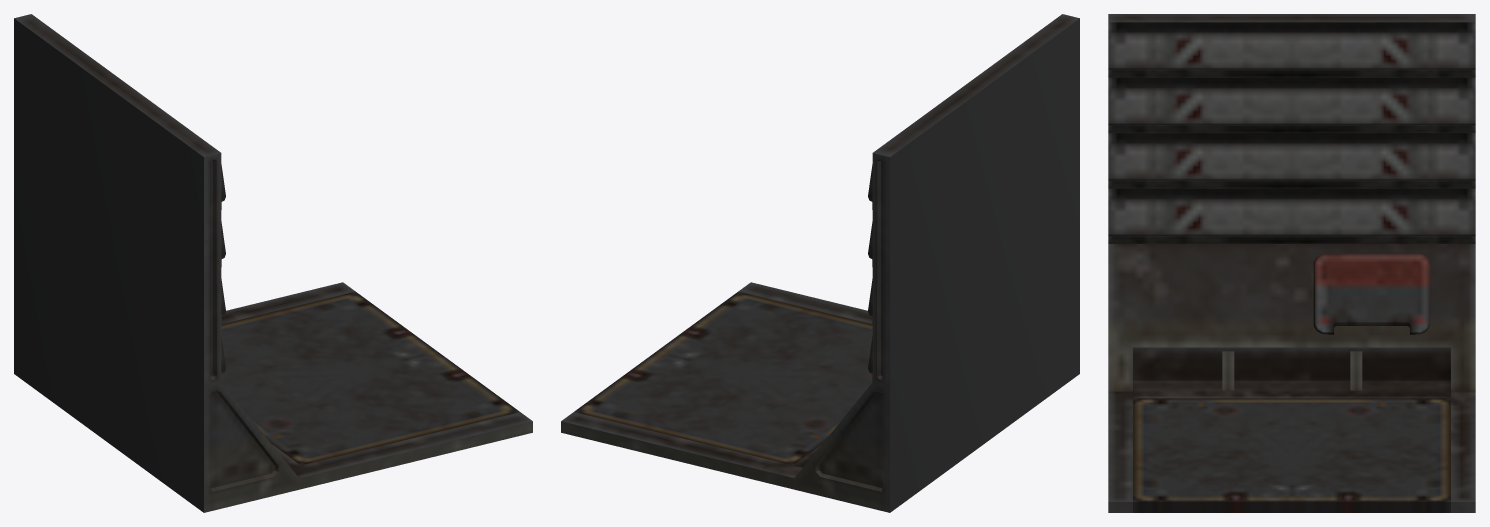
The model's file is Wall-Floor_25.FBX.
The picture shows the model from 3 angles, left to right: view 1: azimuth 30°, elevation 25°; view 2: azimuth 150°, elevation 25°; view 3: azimuth 270°, elevation 25°; orthographic projection. The views are drawn at different scales.
Visible parts, largest first — view 1: Wall-Floor_25; view 2: Wall-Floor_25; view 3: Wall-Floor_25.
Part boxes in pixels (<box>): Wall-Floor_25: <box>14,14,532,512</box>; Wall-Floor_25: <box>561,14,1079,512</box>; Wall-Floor_25: <box>1108,14,1475,512</box>.
Size of the model in its own units: 300 by 310 by 300.
